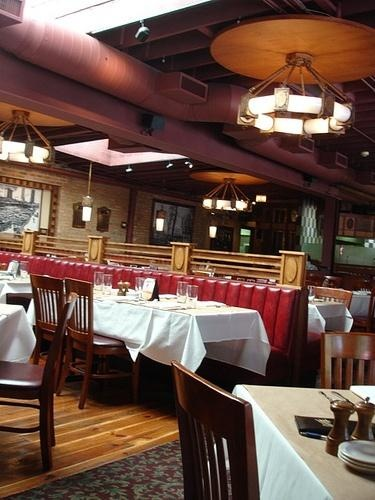chair: (2, 292, 78, 474), (168, 358, 260, 500), (58, 268, 143, 412), (30, 272, 63, 388), (319, 334, 375, 388), (312, 286, 349, 306)
diningtable: (64, 280, 271, 412), (235, 383, 375, 500)
